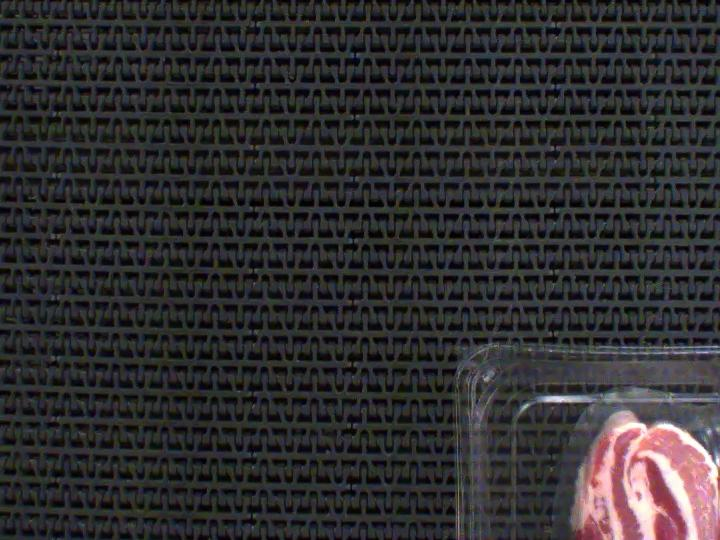unsealed: (535, 350, 720, 540)
